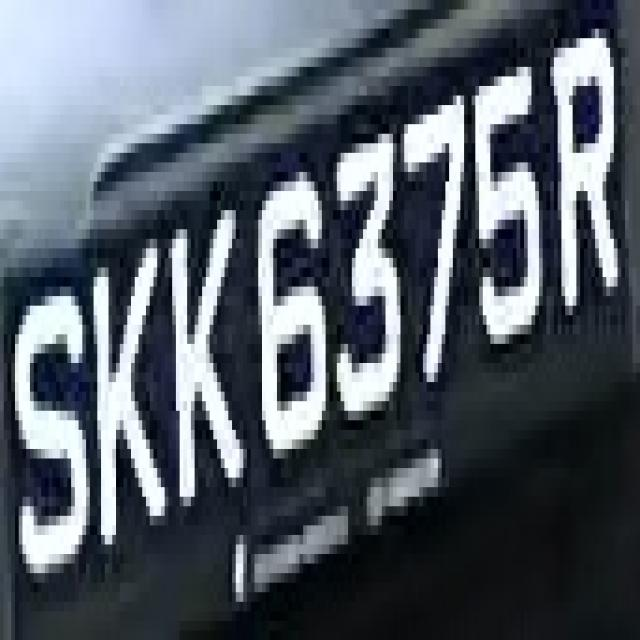3: (318, 95, 404, 430)
5: (468, 57, 554, 382)
6: (243, 153, 344, 468)
7: (389, 76, 468, 392)
K: (161, 191, 251, 554), (86, 220, 161, 564)
R: (543, 29, 636, 354)
S: (15, 258, 97, 592)
